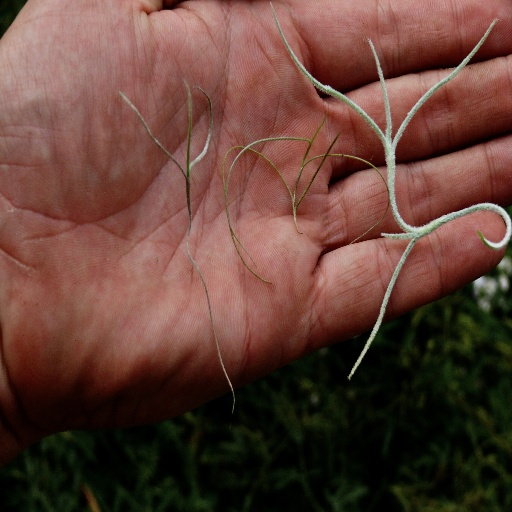hand: (2, 0, 486, 469)
